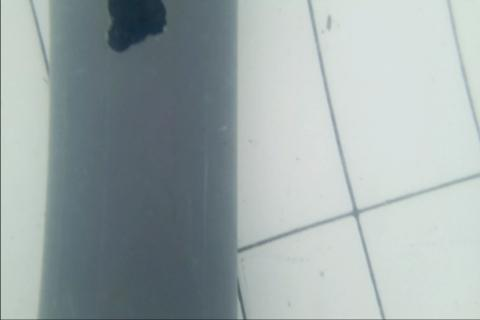kebocoran: (103, 0, 168, 53)
